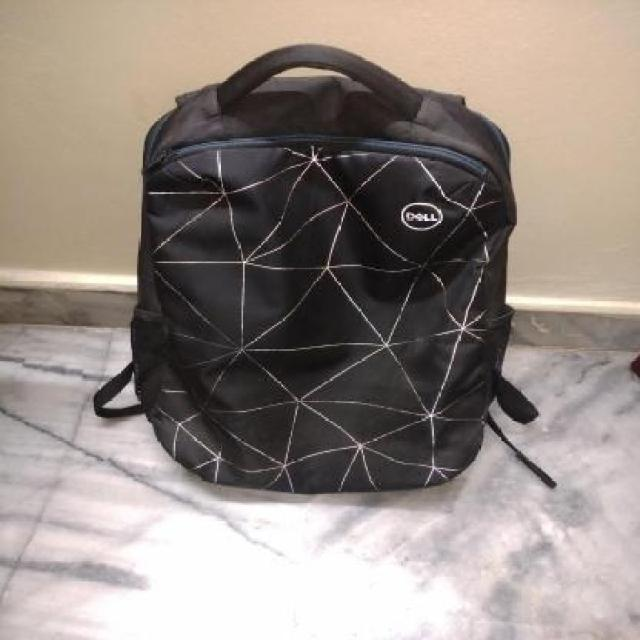backpack: (88, 37, 542, 498)
